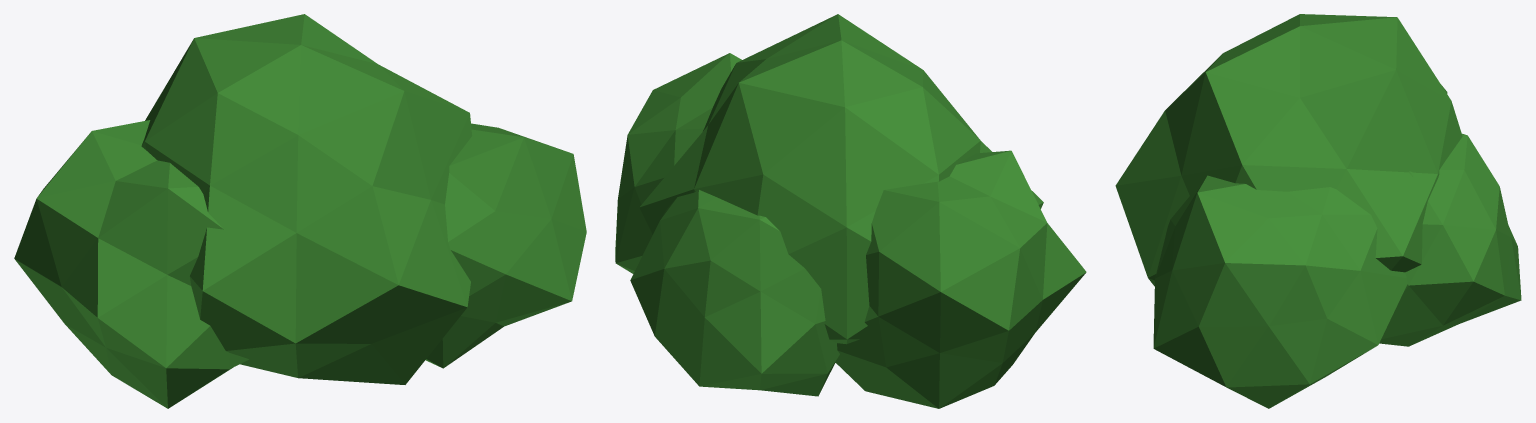
The model's file is bush.glb.
The picture shows the model from 3 angles, left to right: view 1: azimuth 30°, elevation 25°; view 2: azimuth 150°, elevation 25°; view 3: azimuth 270°, elevation 25°; orthographic projection. The views are drawn at different scales.
Bounding box in the file's own units: 1.62 × 1.13 × 1.31.
